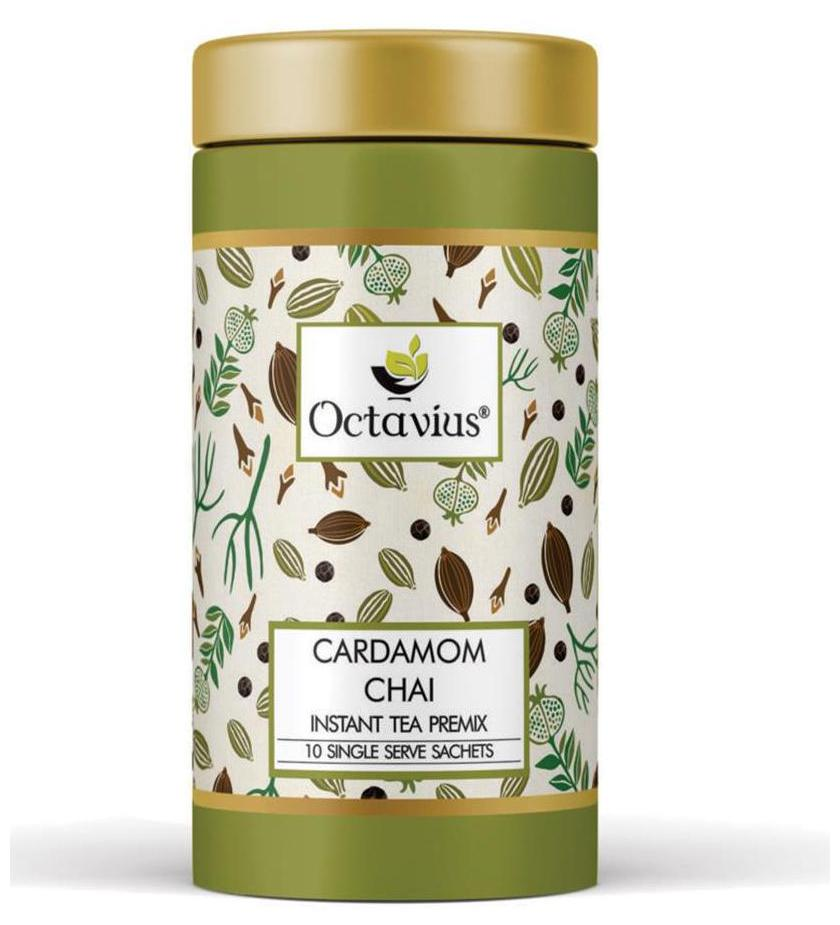JAR: (184, 21, 605, 908)
